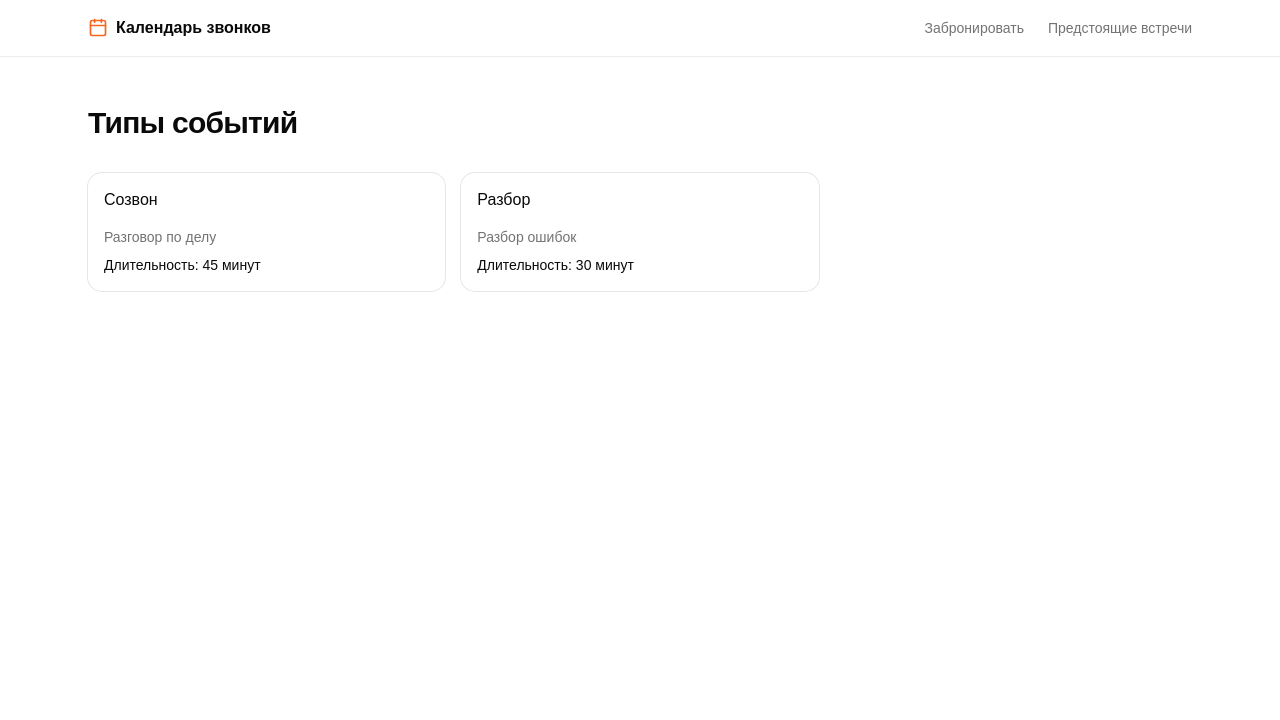
Test: §6: клик по типу ведёт на /book/:id
Click the link "Созвон Разговор по делу Длительность: 45 минут".
click(267, 232)  # box [88,173,445,291]
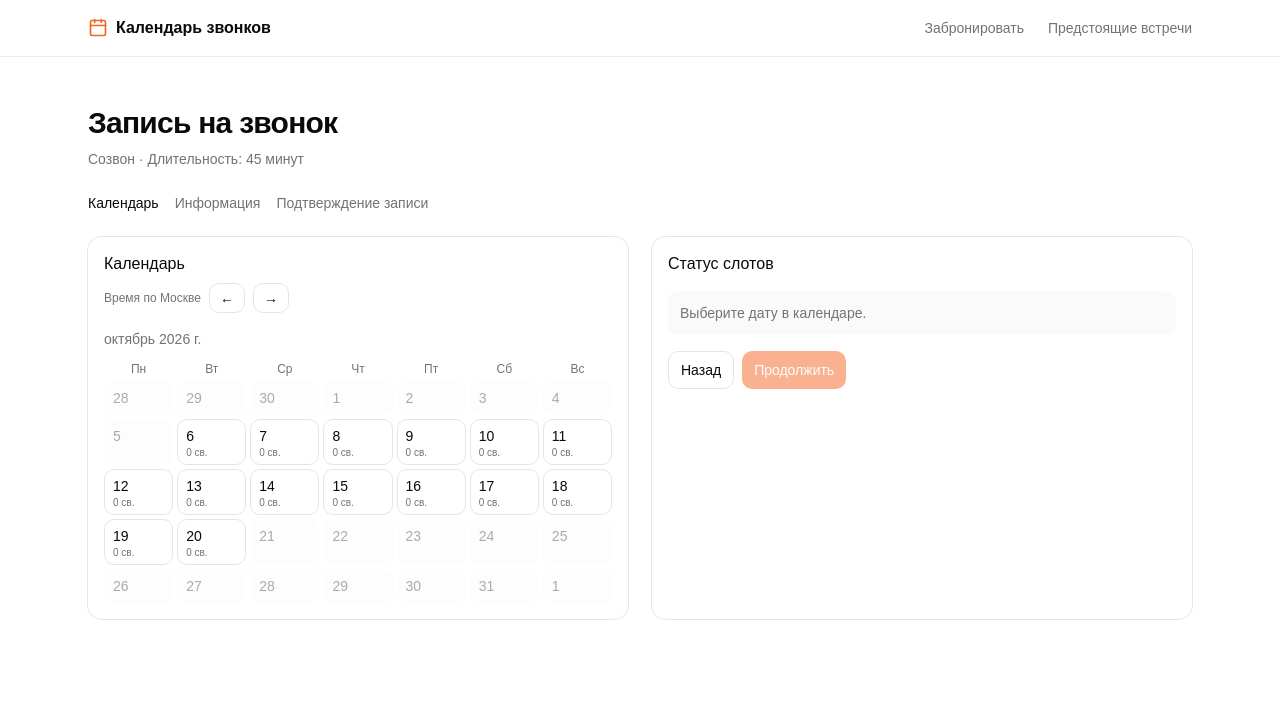
expect the text "Выберите дату в календаре." is shown: met, box [668,291,1176,335]
